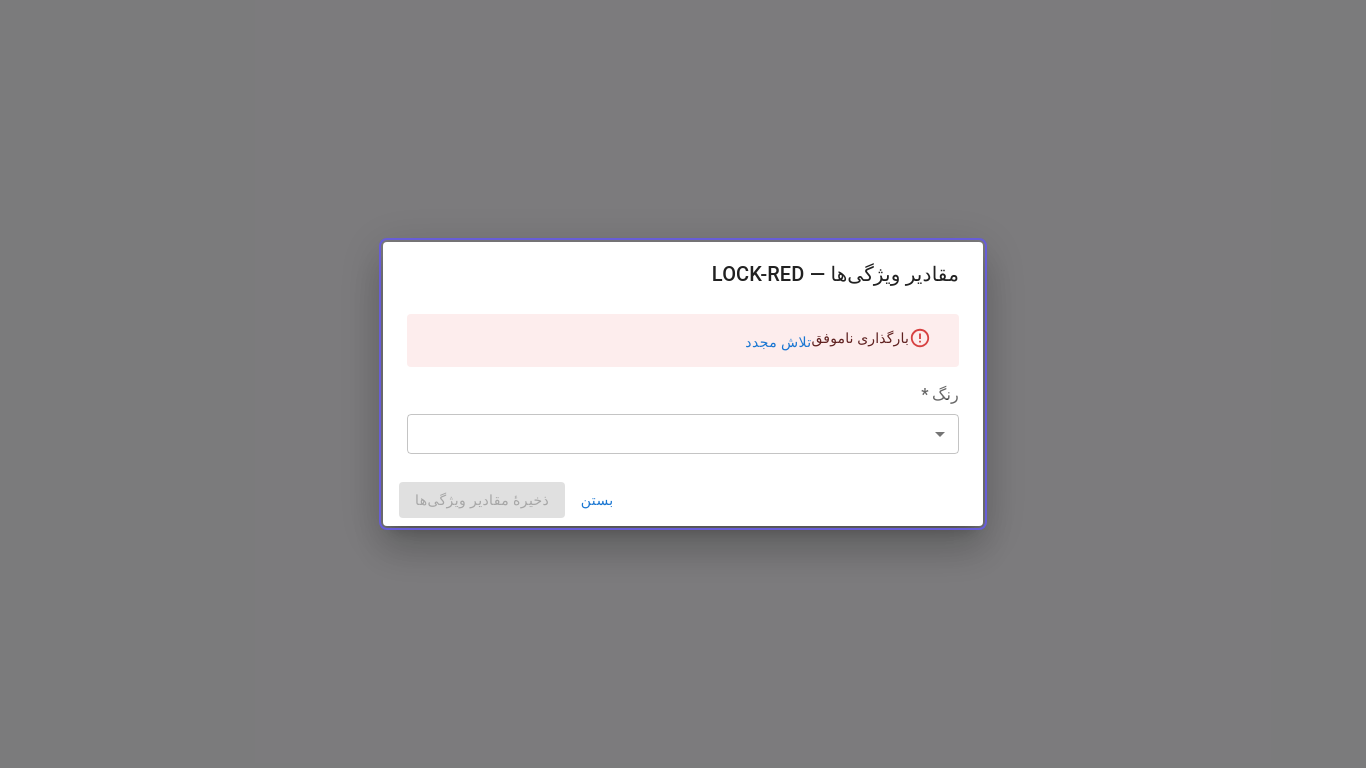
Test: VariantAttributesDialog mutation and recovery › retries definition loading after network failure and never enables an incomplete form
Expected: the text "بارگذاری ناموفق" is shown, x1=812 y1=330 x2=909 y2=346
Expected: the button "ذخیرهٔ مقادیر ویژگی‌ها" is disabled, x1=399 y1=482 x2=565 y2=518
Click the button "تلاش مجدد": click(778, 342) x1=737 y1=324 x2=820 y2=360
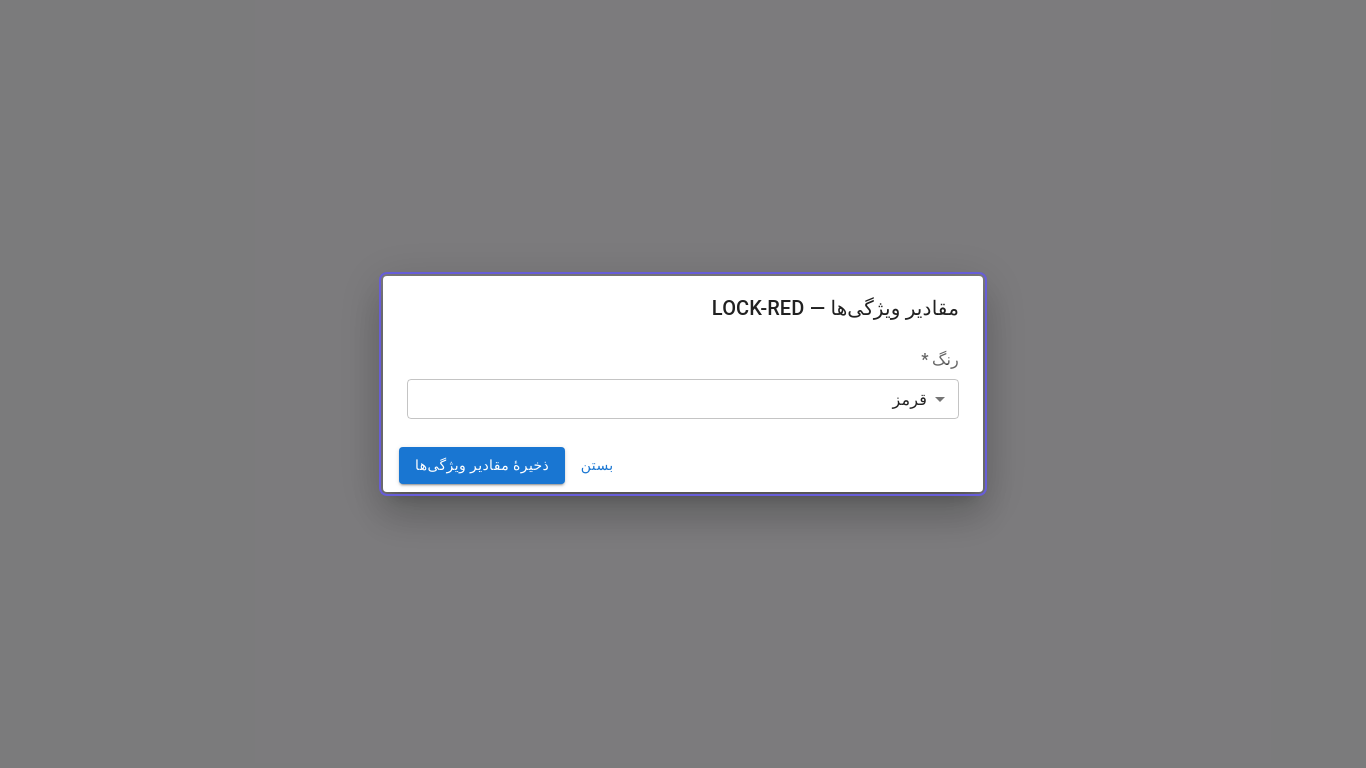
Expected: the button "ذخیرهٔ مقادیر ویژگی‌ها" is enabled, x1=399 y1=447 x2=565 y2=484
